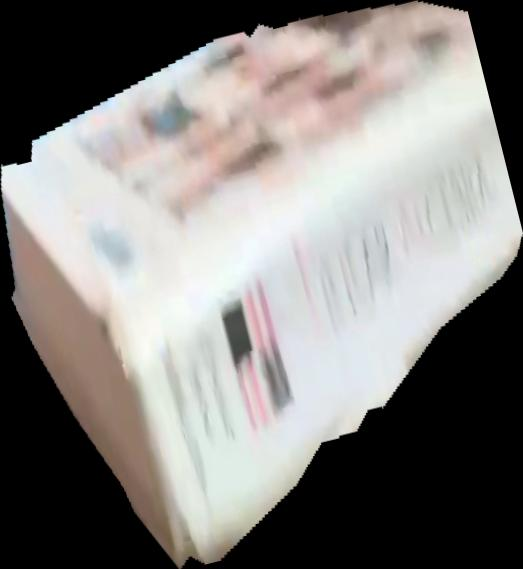flat: (1, 1, 523, 569)
